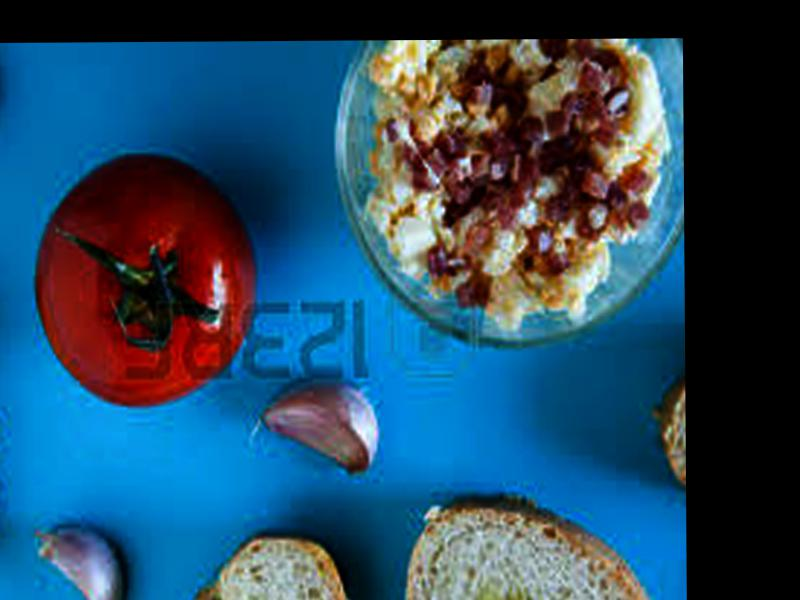Tomato: (34, 155, 248, 409)
